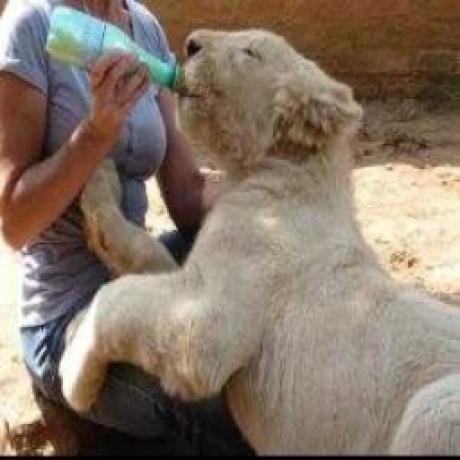Lion: (55, 21, 460, 460)
